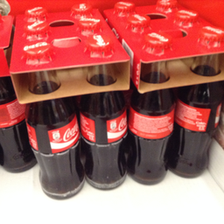soda: (23, 42, 84, 200), (79, 39, 129, 191), (127, 32, 176, 185), (175, 27, 222, 178)
